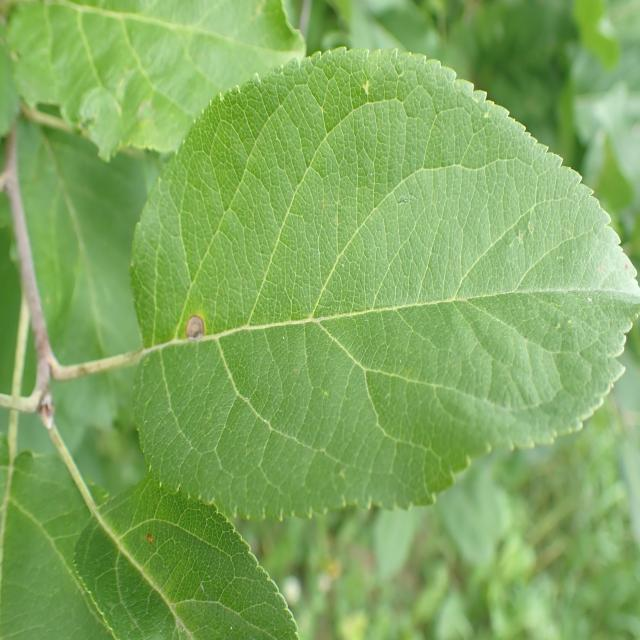Black Rot: (170, 294, 213, 352)
